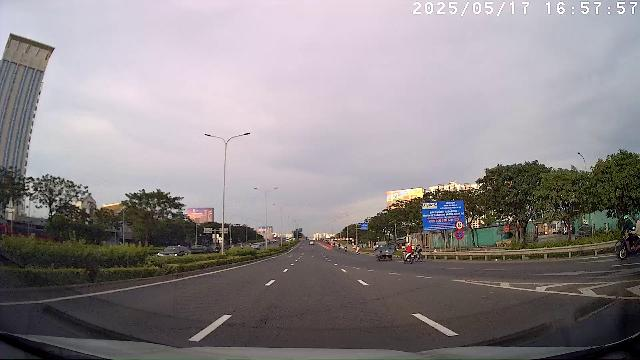127-toc-do-toi-da-60: (455, 221, 463, 229)
